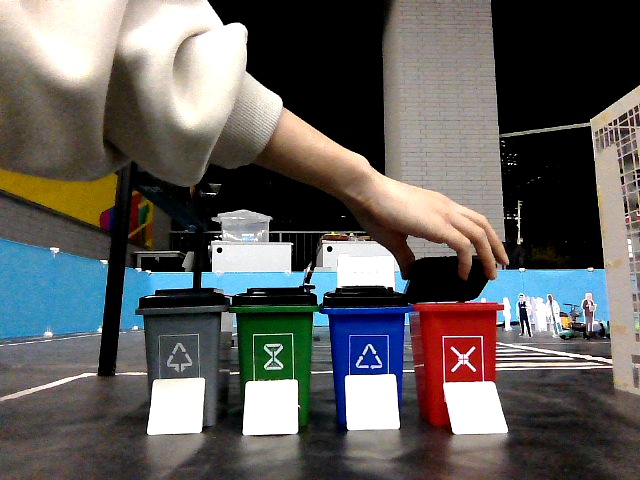blue_close: (328, 285, 400, 369)
green_close: (237, 288, 310, 376)
grey_close: (145, 289, 220, 374)
red_close: (420, 302, 492, 378)
red_open: (420, 302, 492, 378)
